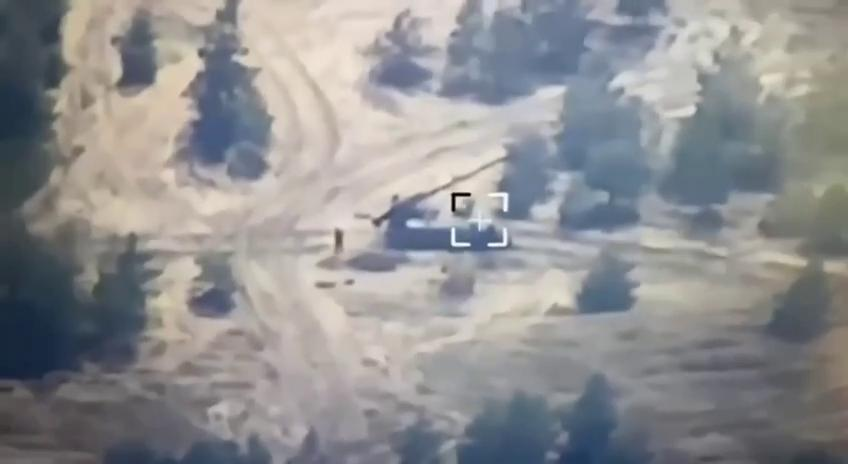tank: (373, 154, 513, 252)
